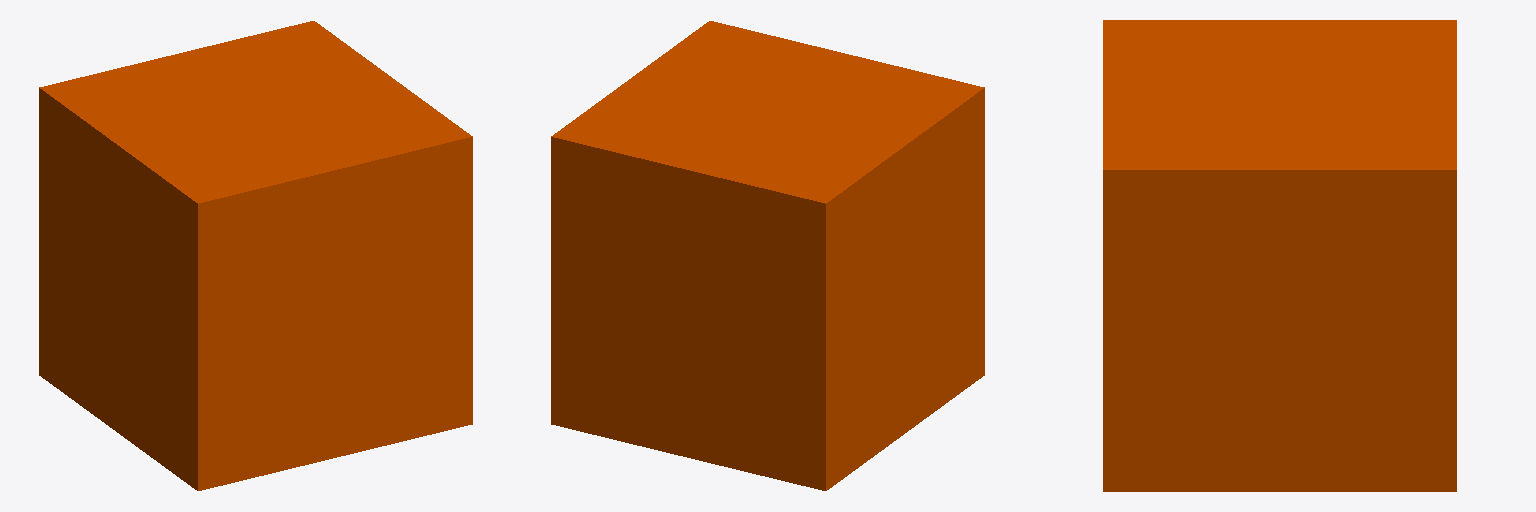
URDF robot description (karcher_urdf):
<?xml version="1.0" ?>
<robot name="karcher_urdf">
  <joint name="karcher_urdf__front_steer_joint" type="revolute">
    <parent link="karcher_urdf__chassis"/>
    <child link="karcher_urdf__front_dummy_link"/>
    <origin rpy="0.00000000e+00   1.00000000e-05   0.00000000e+00" xyz="0      0.08    0.0175"/>
    <axis xyz="0  0  1"/>
    <limit effort="1000.0" lower="-1.5707" upper="1.5707" velocity="100.0"/>
  </joint>

  <joint name="karcher_urdf__front_wheel_joint" type="revolute">
    <parent link="karcher_urdf__front_dummy_link"/>
    <child link="karcher_urdf__front_wheel"/>
    <origin rpy="0  0  0" xyz="0  0  0"/>
    <axis xyz="1.00000000e+00   0.00000000e+00  -1.70000000e-04"/>
    <limit effort="0.0" lower="-1e+16" upper="1e+16" velocity="0.0"/>
  </joint>

  <joint name="karcher_urdf__rear_left_wheel_joint" type="revolute">
    <parent link="karcher_urdf__chassis"/>
    <child link="karcher_urdf__rear_left_wheel"/>
    <origin rpy="3.14150000e-01   1.00000000e-05   3.14150000e-01" xyz="-0.05742 -0.065    0.0275"/>
    <axis xyz="-0.95105  0.29383 -0.09569"/>
    <limit effort="0.0" lower="-1e+16" upper="1e+16" velocity="0.0"/>
  </joint>

  <joint name="karcher_urdf__rear_right_wheel_joint" type="revolute">
    <parent link="karcher_urdf__chassis"/>
    <child link="karcher_urdf__rear_right_wheel"/>
    <origin rpy="3.14150000e-01   1.00000000e-05   3.14150000e-01" xyz="0.05742 -0.065    0.0275"/>
    <axis xyz="-0.95105  0.29383 -0.09569"/>
    <limit effort="0.0" lower="-1e+16" upper="1e+16" velocity="0.0"/>
  </joint>

  <joint name="camera_joint" type="fixed">
    <parent link="karcher_urdf__chassis"/>
    <child link="karcher_camera"/>
    <origin xyz="0.2 0 0.2" rpy="0 0 0"/>
    <axis xyz="0 1 0" />
  </joint>

  <link name="karcher_urdf__chassis">
    <inertial>
      <mass value="72.5"/>
      <origin rpy="0  0  0" xyz="0  0  0"/>
      <inertia ixx="322.8" ixy="0" ixz="0" iyy="221.43" iyz="0" izz="290.15"/>
    </inertial>

    <collision name="karcher_urdf__chassis_collision_collision">
      <origin rpy="0  0  0" xyz="0    0    0.09"/>
      <geometry>
        <mesh filename="package://description/meshes/karcher_model.dae" scale="0.1 0.1 0.1"/>
      </geometry>
    </collision>

    <visual name="karcher_urdf__chassis_visual_visual">
      <origin rpy="0  0  0" xyz="0    0    0.09"/>
      <geometry>
        <mesh filename="package://description/meshes/karcher_model.dae" scale="0.1 0.1 0.1"/>
      </geometry>
    </visual>
  </link>

  <link name="karcher_urdf__front_dummy_link">
    <inertial>
      <mass value="0.01"/>
      <origin rpy="0  0  0" xyz="0  0  0"/>
      <inertia ixx="0" ixy="0" ixz="0" iyy="0" iyz="0" izz="0"/>
    </inertial>
  </link>

  <link name="karcher_urdf__front_wheel">
    <inertial>
      <mass value="0.5"/>
      <origin rpy="0  0  0" xyz="0  0  0"/>
      <inertia ixx="0.02917" ixy="0" ixz="0" iyy="0.02917" iyz="0" izz="0.025"/>
    </inertial>

    <collision name="karcher_urdf__front_wheel_collision_collision">
      <origin rpy="0.31415 -0.15707  0.31415" xyz="0  0  0"/>
      <geometry>
        <sphere radius="0.01"/>
      </geometry>
    </collision>

    <visual name="karcher_urdf__front_wheel_visual_visual">
      <origin rpy="0.31415 -0.15707  0.31415" xyz="0  0  0"/>
      <geometry>
        <cylinder length="0.02" radius="0.01"/>
      </geometry>
    </visual>
  </link>

  <link name="karcher_urdf__rear_left_wheel">
    <inertial>
      <mass value="1"/>
      <origin rpy="0  0  0" xyz="0  0  0"/>
      <inertia ixx="0.325" ixy="0" ixz="0" iyy="0.325" iyz="0" izz="0.5354"/>
    </inertial>

    <collision name="karcher_urdf__rear_left_wheel_collision_collision">
      <origin rpy="0.31415 -0.15707  0.31415" xyz="0  0  0"/>
      <geometry>
        <sphere radius="0.02"/>
      </geometry>
    </collision>

    <visual name="karcher_urdf__rear_left_wheel_visual_visual">
      <origin rpy="0.31415 -0.15707  0.31415" xyz="0  0  0"/>
      <geometry>
        <cylinder length="0.01016" radius="0.02"/>
      </geometry>
    </visual>
  </link>

  <link name="karcher_urdf__rear_right_wheel">
    <inertial>
      <mass value="1"/>
      <origin rpy="0  0  0" xyz="0  0  0"/>
      <inertia ixx="0.325" ixy="0" ixz="0" iyy="0.325" iyz="0" izz="0.5354"/>
    </inertial>

    <collision name="karcher_urdf__rear_right_wheel_collision_collision">
      <origin rpy="0.31415 -0.15707  0.31415" xyz="0  0  0"/>
      <geometry>
        <sphere radius="0.02"/>
      </geometry>
    </collision>

    <visual name="karcher_urdf__rear_right_wheel_visual_visual">
      <origin rpy="0.31415 -0.15707  0.31415" xyz="0  0  0"/>
      <geometry>
        <cylinder length="0.01016" radius="0.02"/>
      </geometry>
    </visual>
  </link>

  <link name="karcher_camera">
    <collision>
      <origin  rpy="0 0 0" xyz="0 0 0"/>
      <geometry>
        <box size="5 5 5"/>
      </geometry>
    </collision>

    <visual>
      <origin  rpy="0 0 0" xyz="0 0 0"/>
      <geometry>
        <box size="5 5 5"/>
      </geometry>
    </visual>

    <inertial>
      <mass value="0.1" />
      <origin  rpy="0 0 0" xyz="0 0 0"/>
      <inertia ixx="1e-6" ixy="0" ixz="0" iyy="1e-6" iyz="0" izz="1e-6" />
    </inertial>
  </link>

  <!-- <link name="karcher_camera">
    <collision>
      <origin  rpy="0 0 0" xyz="0 0 0"/>
      <geometry>
        <box size="0.05 0.05 0.05"/>
      </geometry>
    </collision>

    <visual>
      <origin  rpy="0 0 0" xyz="0 0 0"/>
      <geometry>
        <box size="0.05 0.05 0.05"/>
      </geometry>
    </visual>

    <inertial>
      <mass value="0.1" />
      <origin  rpy="0 0 0" xyz="0 0 0"/>
      <inertia ixx="1e-6" ixy="0" ixz="0" iyy="1e-6" iyz="0" izz="1e-6" />
    </inertial>
  </link> -->

	<transmission name="front_steer_trans">
		<type>transmission_interface/SimpleTransmission</type>
		<joint name="front_steer_joint">
			<hardwareInterface>hardware_interface/EffortJointInterface</hardwareInterface>
		</joint>
		<actuator name="front_steer_act">
			<hardwareInterface>hardware_interface/EffortJointInterface</hardwareInterface>
			<mechanicalReduction>1</mechanicalReduction>
		</actuator>
	</transmission>
	<transmission name="front_wheel_trans">
		<type>transmission_interface/SimpleTransmission</type>
		<joint name="front_wheel_joint">
			<hardwareInterface>hardware_interface/EffortJointInterface</hardwareInterface>
		</joint>
		<actuator name="front_wheel_act">
			<hardwareInterface>hardware_interface/EffortJointInterface</hardwareInterface>
			<mechanicalReduction>1</mechanicalReduction>
		</actuator>
	</transmission>
	<transmission name="rear_right_wheel_trans">
		<type>transmission_interface/SimpleTransmission</type>
		<joint name="rear_right_wheel_joint">
			<hardwareInterface>hardware_interface/EffortJointInterface</hardwareInterface>
		</joint>
		<actuator name="rear_right_wheel_act">
			<hardwareInterface>hardware_interface/EffortJointInterface</hardwareInterface>
			<mechanicalReduction>1</mechanicalReduction>
		</actuator>
	</transmission>
	<transmission name="rear_left_wheel_trans">
		<type>transmission_interface/SimpleTransmission</type>
		<joint name="rear_left_wheel_joint">
			<hardwareInterface>hardware_interface/EffortJointInterface</hardwareInterface>
		</joint>
		<actuator name="rear_left_wheel_act">
			<hardwareInterface>hardware_interface/EffortJointInterface</hardwareInterface>
			<mechanicalReduction>1</mechanicalReduction>
		</actuator>
	</transmission>

  <gazebo reference="camera_link">
    <sensor type="camera" name="camera1">
      <update_rate>30.0</update_rate>
      <camera name="head">
        <horizontal_fov>1.3962634</horizontal_fov>
        <image>
          <width>800</width>
          <height>800</height>
          <format>R8G8B8</format>
        </image>
        <clip>
          <near>0.02</near>
          <far>300</far>
        </clip>
        <noise>
          <type>gaussian</type>
          <!-- Noise is sampled independently per pixel on each frame.
               That pixel's noise value is added to each of its color
               channels, which at that point lie in the range [0,1]. -->
          <mean>0.0</mean>
          <stddev>0.007</stddev>
        </noise>
      </camera>
      <plugin name="camera_controller" filename="libgazebo_ros_camera.so">
        <alwaysOn>true</alwaysOn>
        <updateRate>0.0</updateRate>
        <cameraName>karcher/camera1</cameraName>
        <imageTopicName>image_raw</imageTopicName>
        <cameraInfoTopicName>camera_info</cameraInfoTopicName>
        <frameName>camera_link</frameName>
        <hackBaseline>0.07</hackBaseline>
        <distortionK1>0.0</distortionK1>
        <distortionK2>0.0</distortionK2>
        <distortionK3>0.0</distortionK3>
        <distortionT1>0.0</distortionT1>
        <distortionT2>0.0</distortionT2>
      </plugin>
    </sensor>
  </gazebo>

	<gazebo>
		<plugin name="KarcherUrdfPlugin" filename="libKarcherUrdfPlugin.so">
			<max_steer>0.442</max_steer>
			<max_speed>1.5278</max_speed>
			<fwheel_steering_p_gain>3</fwheel_steering_p_gain>
			<fwheel_steering_i_gain>4</fwheel_steering_i_gain>
			<fwheel_steering_d_gain>1</fwheel_steering_d_gain>
			<chassis_aero_force_gain>0.63045</chassis_aero_force_gain>
			<front_torque>0</front_torque>
			<back_torque>200</back_torque>
			<front_brake_torque>0</front_brake_torque>
			<back_brake_torque>200</back_brake_torque>
			<wheel_base>1.006</wheel_base>
			<rear_track>1.1494</rear_track>
		</plugin>
		<plugin name="gazebo_ros_control" filename="libgazebo_ros_control.so">
			<robotNamespace>/karcher_urdf</robotNamespace>
		</plugin>
	</gazebo>

</robot>

--- Facts derived from the render (not from the file) ---
3 views of the same robot in one strip: view 1: azimuth 30°, elevation 25°; view 2: azimuth 150°, elevation 25°; view 3: azimuth 270°, elevation 25° (orthographic).
Model karcher_urdf with 6 links and 5 joints (4 revolute, 1 fixed), rooted at karcher_urdf__chassis, posed all joints at 0.
Links seen in each view (by area): view 1: karcher_camera; view 2: karcher_camera; view 3: karcher_camera.
Boxes of the visible links, x1,y1,x2,y2 form: karcher_camera: [39, 21, 472, 490]; karcher_camera: [551, 21, 984, 490]; karcher_camera: [1103, 20, 1456, 491].
Size in the robot's own frame: 5 by 5 by 5 metres.
Meshes: 1 distinct files referenced, 1 mesh visuals loaded (1 Collada DAE).
